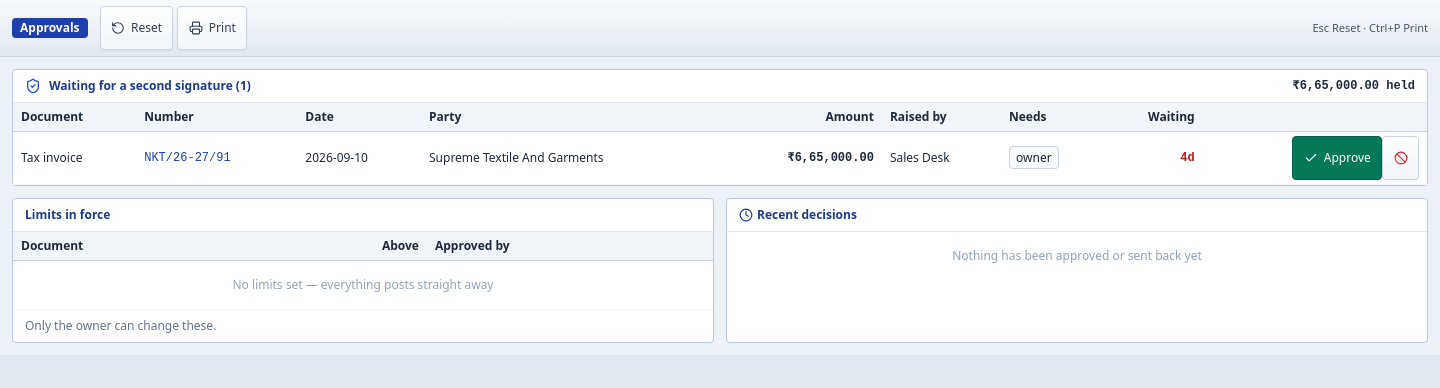
Test case: ApprovalView › approving posts to the server and reports the voucher it created
This screenshot has width=1440, height=388.
Click the button "Approve". click: [1337, 158]
box: [1292, 136, 1382, 180]
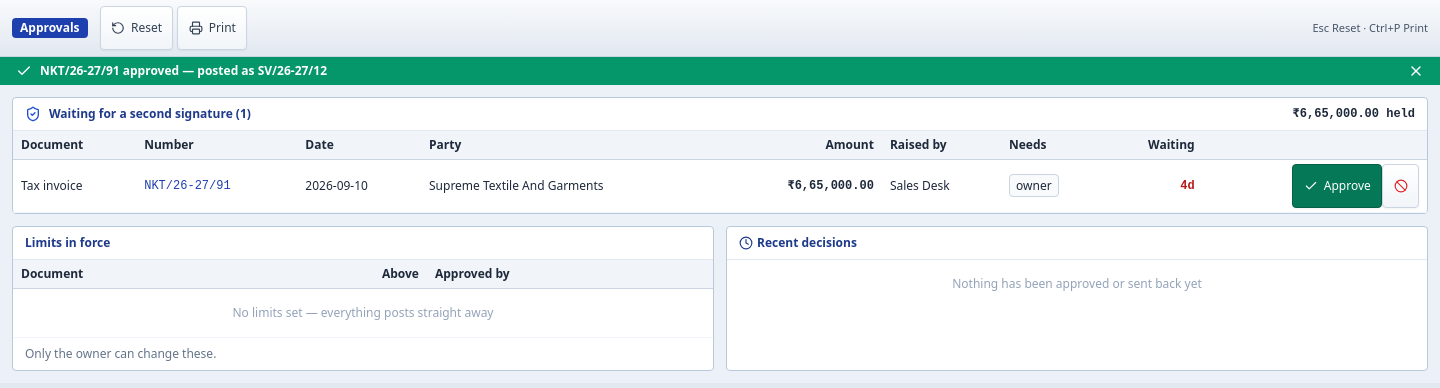
Expected: the text "NKT/26-27/91 approved — posted as SV/26-27/12" is shown, [40, 63, 327, 79]
